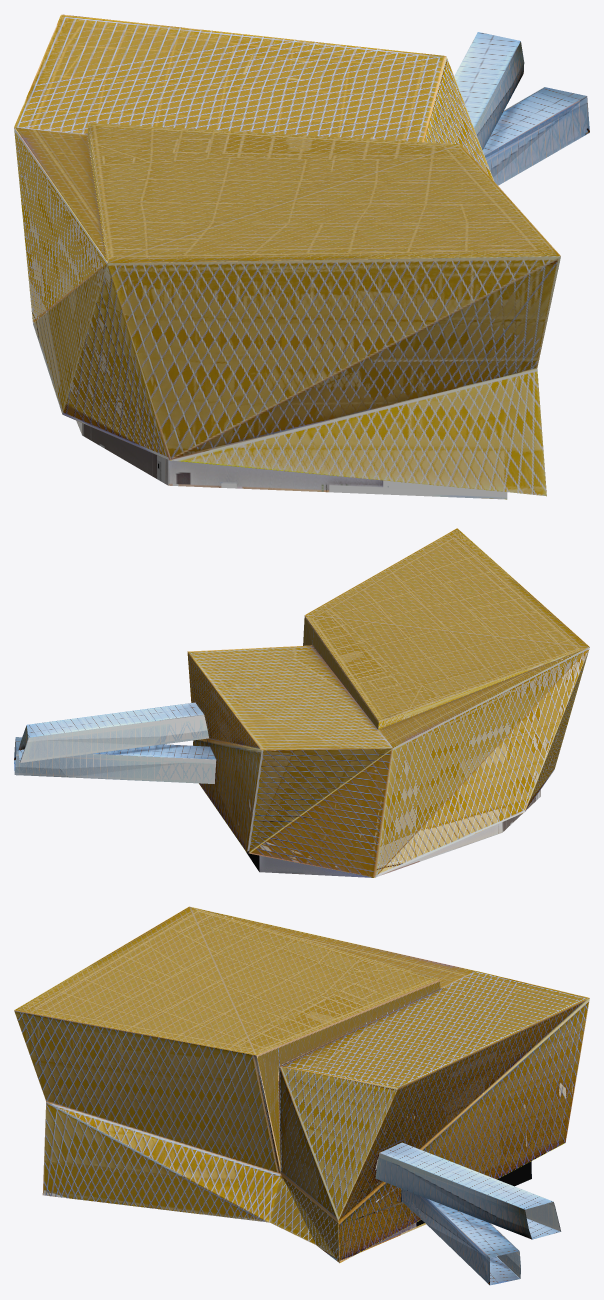
The picture shows the model from 3 angles, top to bottom: view 1: azimuth 30°, elevation 25°; view 2: azimuth 150°, elevation 25°; view 3: azimuth 270°, elevation 25°; orthographic projection. The views are drawn at different scales.
Parts seen in each view (by area): view 1: Plane.003; view 2: Plane.003; view 3: Plane.003.
Part boxes in pixels (x1,y1,x2,y2): Plane.003: [14, 14, 589, 499]; Plane.003: [14, 528, 589, 877]; Plane.003: [14, 906, 589, 1285].
Size of the model in its own units: 84.02 by 30.36 by 84.71.
1 material, 1 textured.
